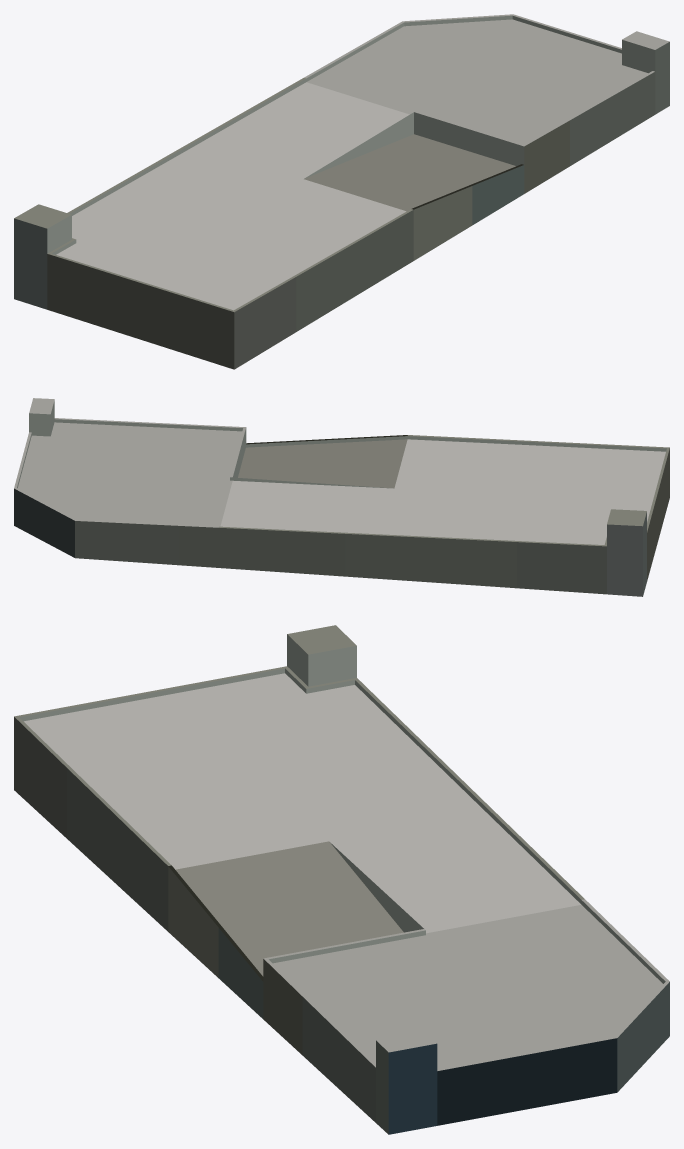
The model's file is warehouse-row-parking-deck.glb.
3 views of the same model, one above another, from view 1: azimuth 30°, elevation 25°; view 2: azimuth 150°, elevation 25°; view 3: azimuth 270°, elevation 25° (orthographic). The views are drawn at different scales.
Visible parts, largest first — view 1: LOD0; view 2: LOD0; view 3: LOD0.
Boxes of the visible parts, x1,y1,x2,y2 form: LOD0: (14,14,669,369); LOD0: (14,398,669,596); LOD0: (14,625,669,1134).
Size of what is drawn, in the model's own units: 110 by 12.86 by 72.29.
1 material, 1 textured.
